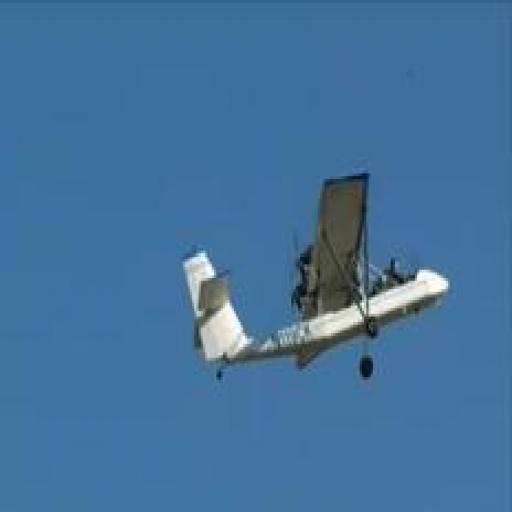aircraft: (182, 173, 451, 379)
